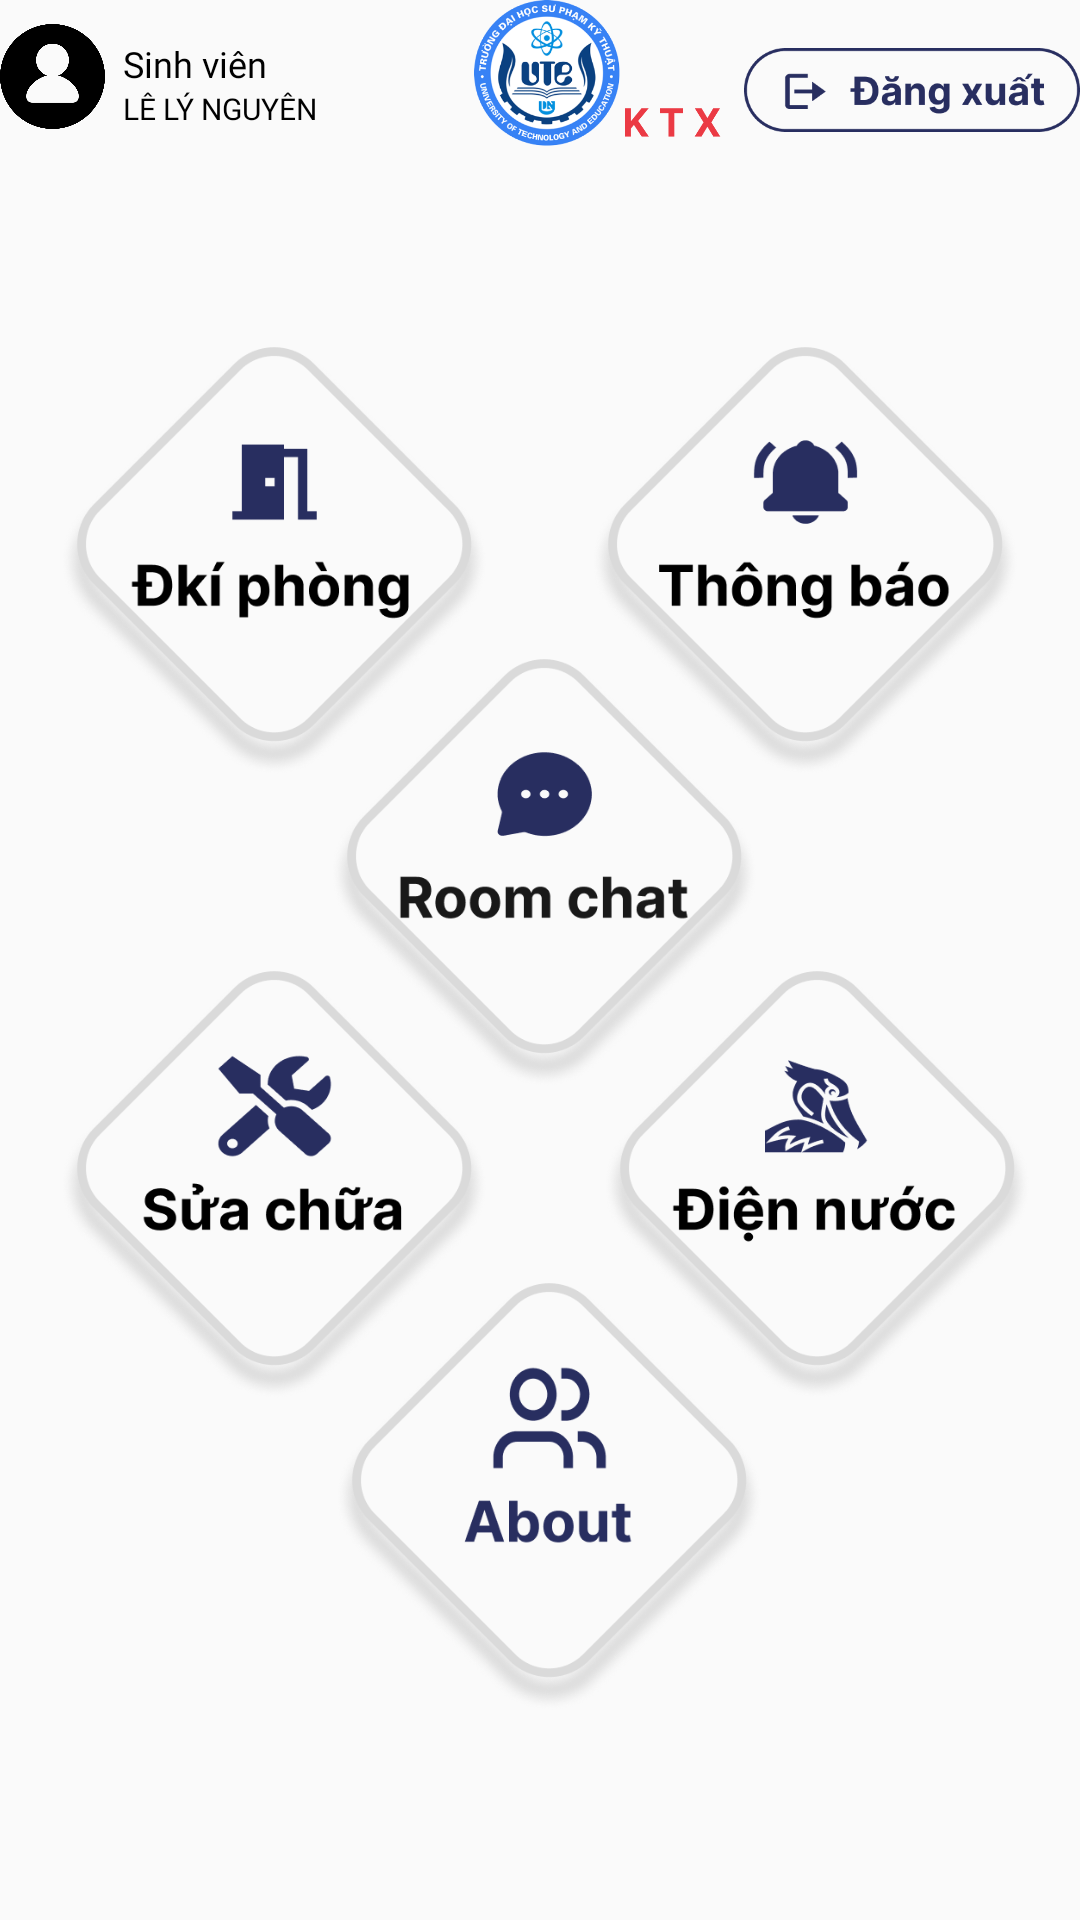

Icon click points for this 1080w x 1920h phone screenshot, format [x,y]:
person: [52,76]
